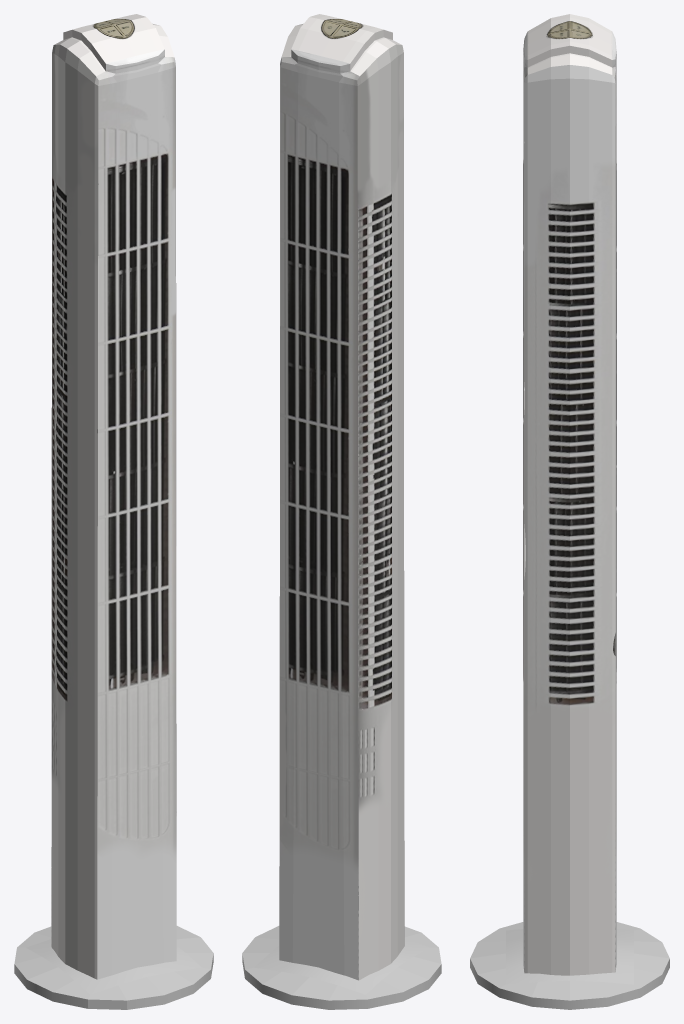
The model's file is Fan.FBX.
3 views of the same model, side by side, from view 1: azimuth 30°, elevation 25°; view 2: azimuth 150°, elevation 25°; view 3: azimuth 270°, elevation 25° (orthographic).
Parts seen in each view (by area): view 1: Fan, Base; view 2: Fan, Base; view 3: Fan, Base.
Boxes of the visible parts, x1,y1,x2,y2 form: Fan: (51, 14, 176, 979); Base: (14, 926, 213, 1009); Fan: (279, 14, 404, 980); Base: (242, 926, 441, 1009); Fan: (523, 14, 616, 975); Base: (470, 922, 669, 1009).
Bounding box in the file's own units: 15.58 × 80.76 × 15.58.
Materials: 2 (1 with a texture image).
